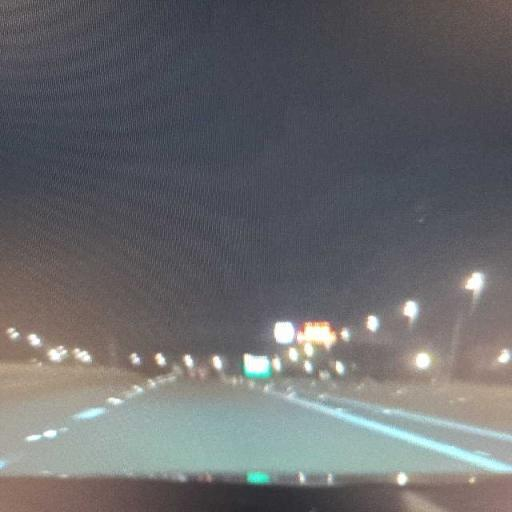lane: (4, 382, 478, 474), (294, 385, 511, 463)
